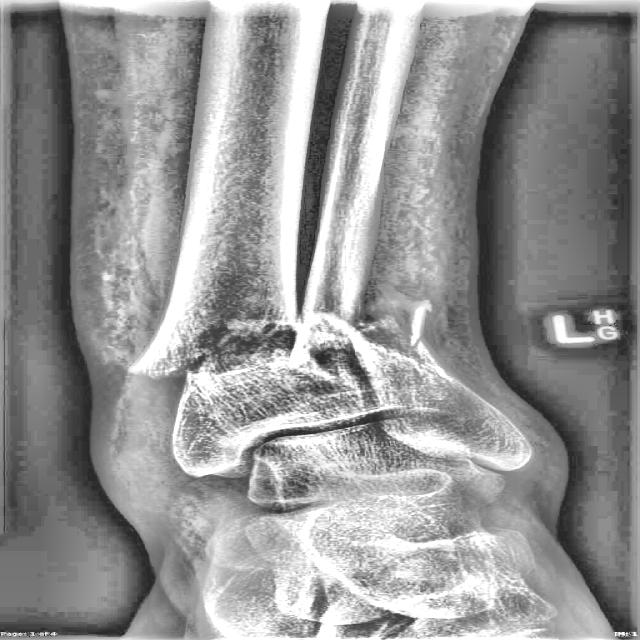messed_up_angle: (125, 307, 345, 388), (290, 293, 476, 388)
